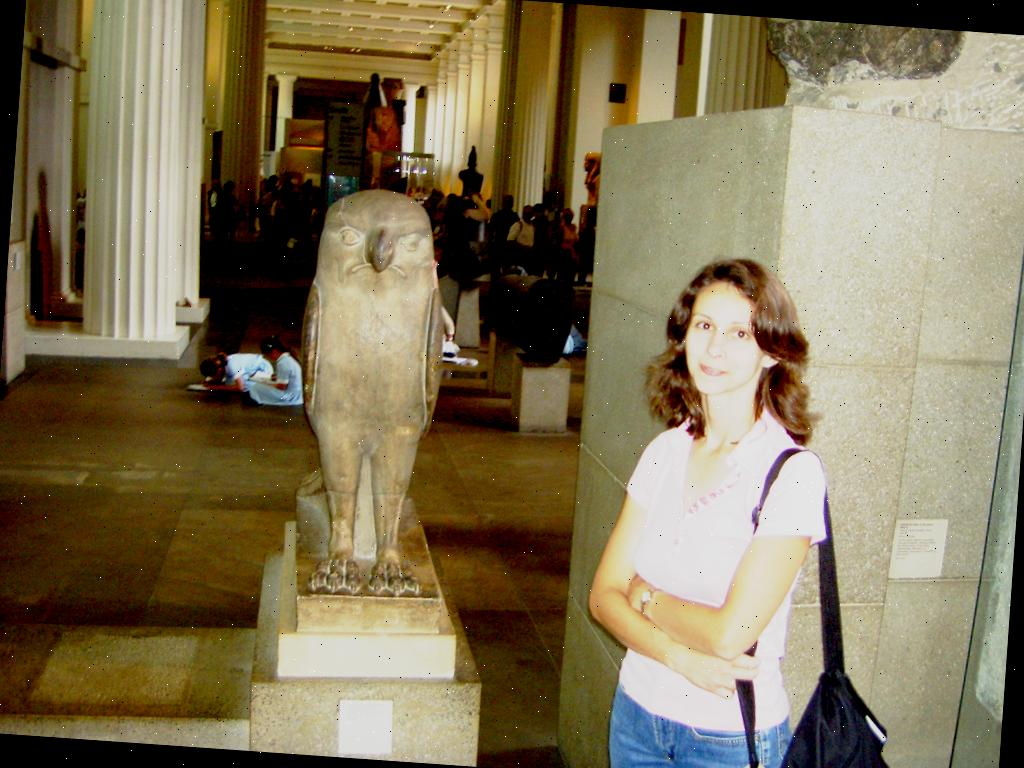Owl: (283, 182, 457, 597)
